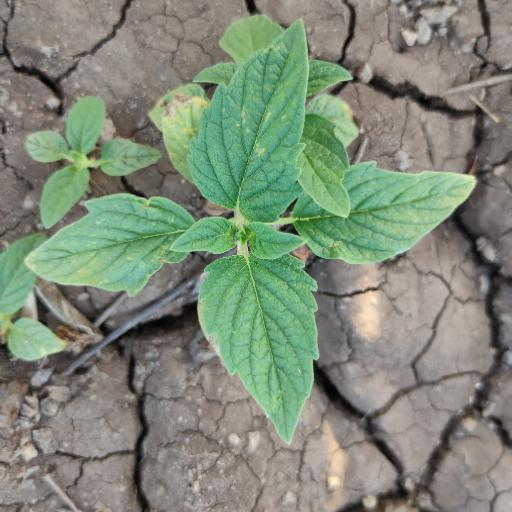crop: (21, 19, 479, 447)
